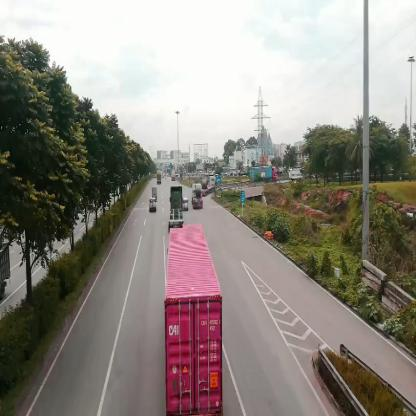car: (150, 200, 157, 216), (183, 198, 189, 212)
container: (168, 226, 222, 416), (171, 186, 184, 230), (250, 167, 278, 185), (193, 185, 204, 210), (203, 178, 217, 194)
truck: (153, 188, 158, 198)
